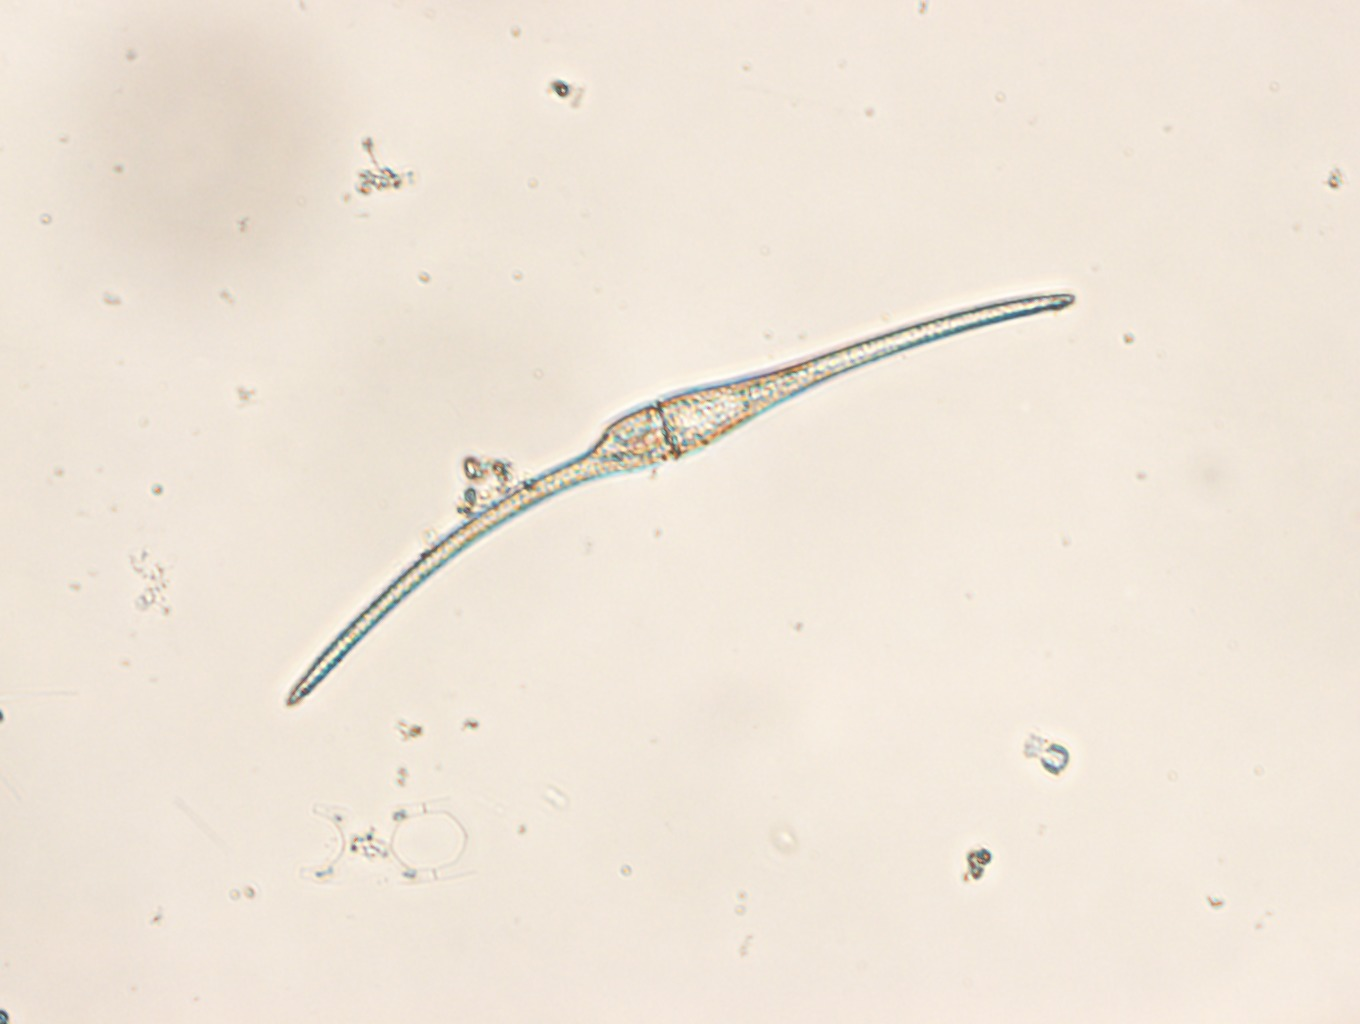ceratium fusus: (287, 293, 1074, 711)
